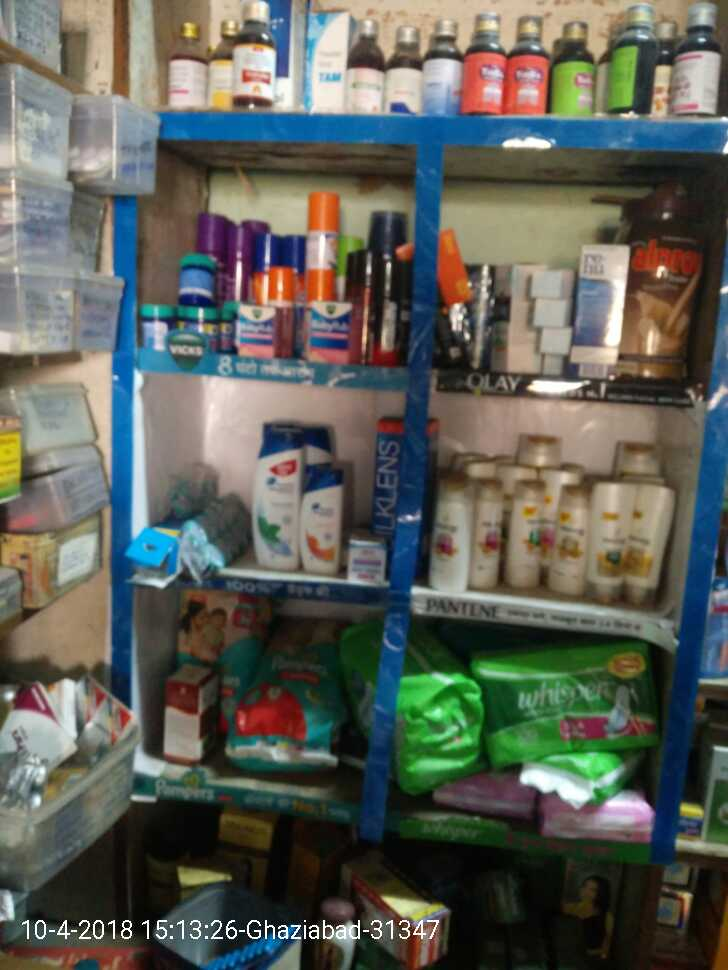vicks: (242, 303, 293, 354), (302, 303, 349, 358), (177, 257, 212, 303), (187, 304, 217, 353), (140, 307, 176, 347), (217, 308, 236, 353)
